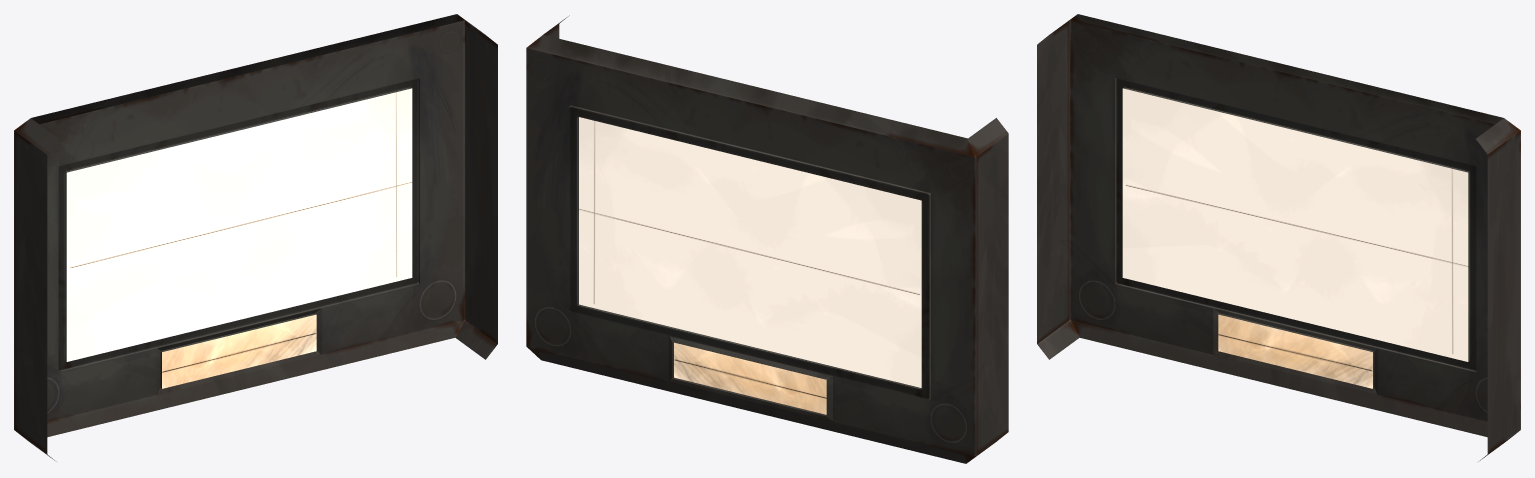
File: Pantalla_01.fbx
3 views of the same model, side by side, from view 1: azimuth 30°, elevation 25°; view 2: azimuth 150°, elevation 25°; view 3: azimuth 330°, elevation 25° (orthographic).
Visible parts, largest first — view 1: Pantalla_01; view 2: Pantalla_01; view 3: Pantalla_01.
Part boxes in pixels (bbox=[...]): Pantalla_01: bbox=[14, 14, 497, 461]; Pantalla_01: bbox=[526, 15, 1008, 463]; Pantalla_01: bbox=[1037, 14, 1520, 461].
Size of the model in its own units: 98.33 by 67.79 by 13.1.
Materials: 1 (1 with a texture image).
